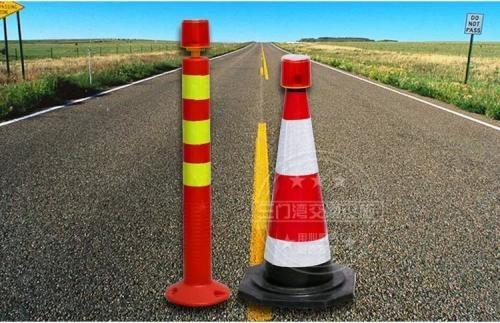cone_barrel: (256, 65, 344, 295), (164, 32, 226, 317)
